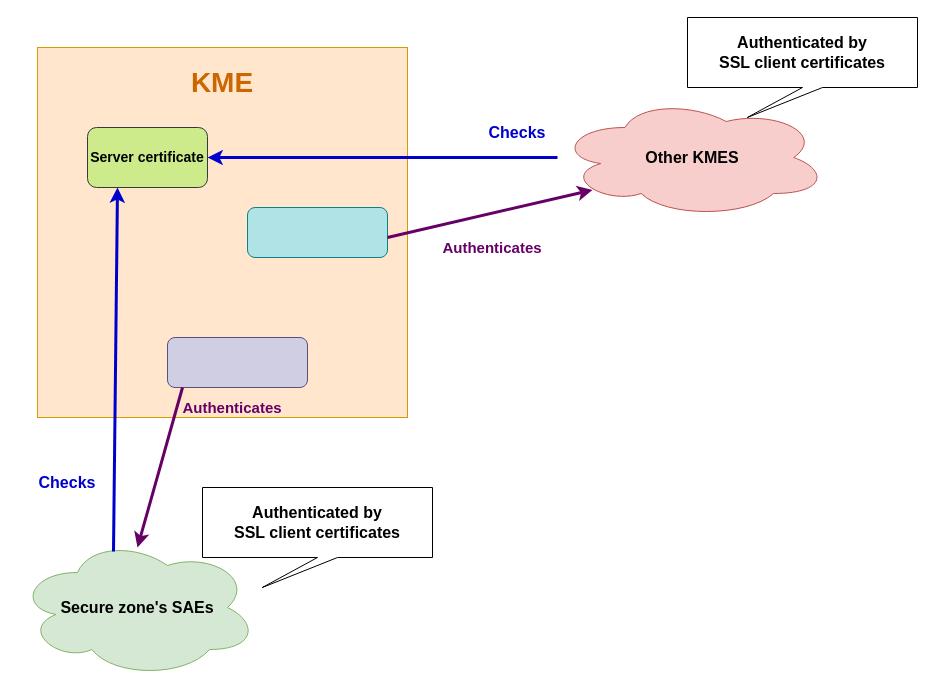
Some shapes in this 935 by 695 pixel diagram are drawn without their labels. The shapes that lost their labels are listed below. From the top down, each one's centre as x and y in pixels, then its label:
At point 317,232: "KMEs root CA".
At point 237,362: "SAEs root CA".
